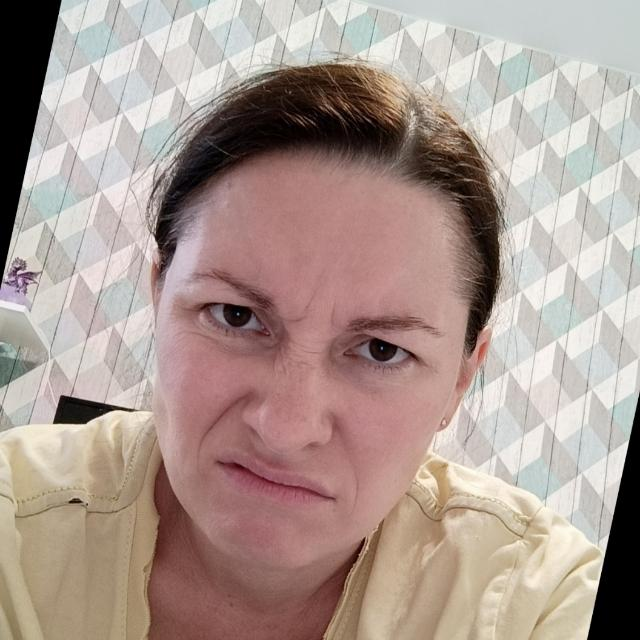Disgust: (63, 68, 594, 600)
